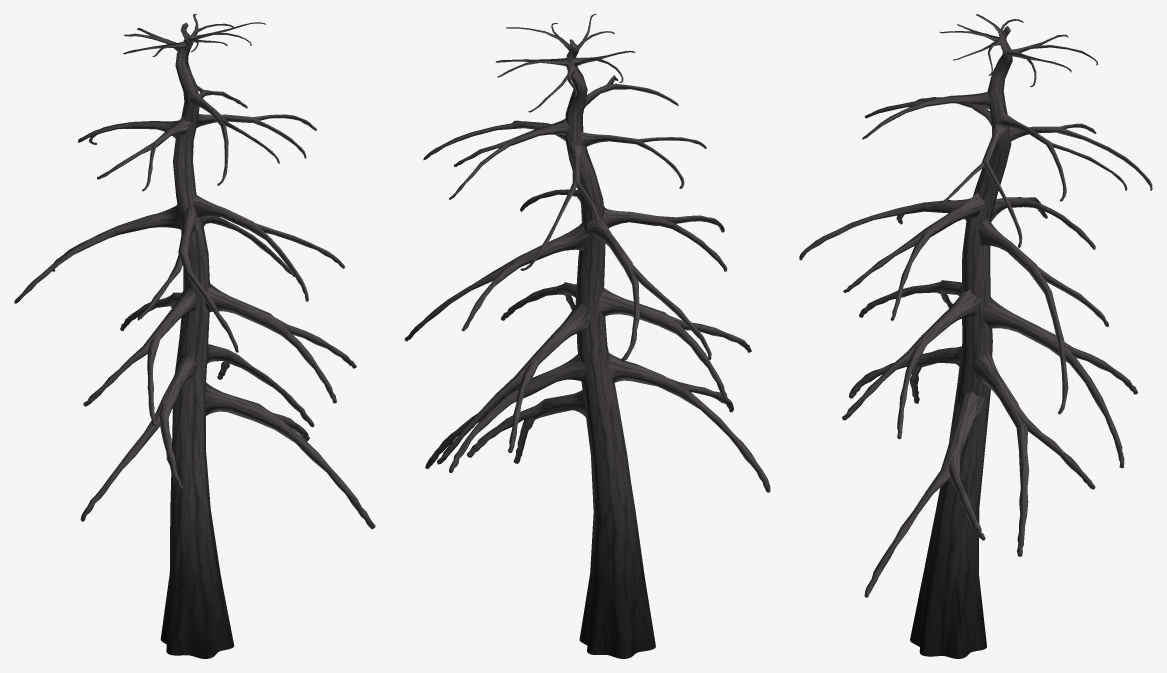
File: deadtree_5.glb
3 renders of one model, left to right at view 1: azimuth 30°, elevation 25°; view 2: azimuth 150°, elevation 25°; view 3: azimuth 270°, elevation 25°, orthographic. The views are drawn at different scales.
Visible parts, largest first — view 1: DeadTree_5; view 2: DeadTree_5; view 3: DeadTree_5.
Part boxes in pixels (x1=…): DeadTree_5: x1=14, y1=14, x2=375, y2=658; DeadTree_5: x1=404, y1=14, x2=770, y2=658; DeadTree_5: x1=799, y1=14, x2=1152, y2=658.
Bounding box in the file's own units: 8.36 × 16.44 × 8.41.
1 material, 1 textured.
